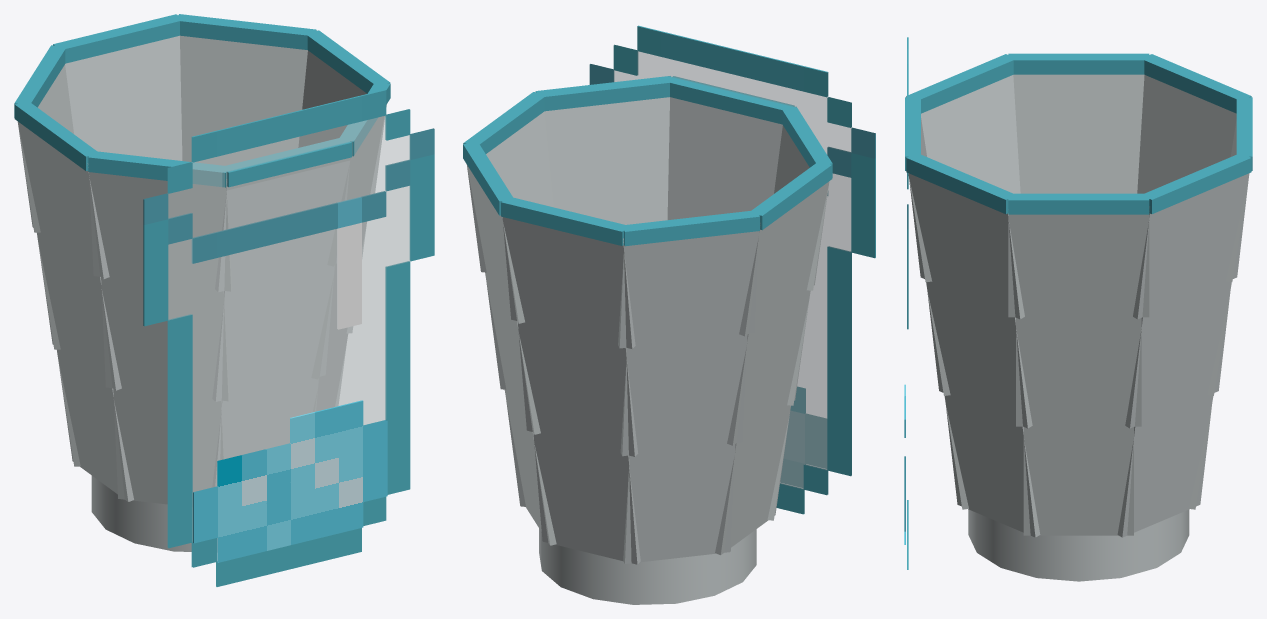
Rendered from CMU3DDrinkIceGlass.glb.
3 views of the same model, side by side, from view 1: azimuth 30°, elevation 25°; view 2: azimuth 150°, elevation 25°; view 3: azimuth 270°, elevation 25° (orthographic).
Visible parts, largest first — view 1: base original source artwork, fill original source artwork, hollow wall tier 3 facet 3, hollow wall tier 2 facet 7, hollow wall tier 3 facet 2, hollow wall tier 2 facet 6, hollow wall tier 3 facet 6, hollow wall tier 3 facet 7, hollow wall tier 1 facet 6, hollow wall tier 3 facet 5, hollow wall tier 2 facet 5, hollow wall tier 1 facet 5 (+15 smaller); view 2: base original source artwork, hollow wall tier 3 facet 8, hollow wall tier 3 facet 4, hollow wall tier 2 facet 4, hollow wall tier 3 facet 3, hollow wall tier 2 facet 3, hollow wall tier 3 facet 7, hollow wall tier 1 facet 4, hollow wall tier 1 facet 3, heavy glass foot, hollow wall tier 3 facet 5, hollow wall tier 2 facet 5 (+15 smaller); view 3: hollow wall tier 3 facet 5, hollow wall tier 3 facet 1, hollow wall tier 2 facet 1, hollow wall tier 1 facet 1, hollow wall tier 3 facet 2, hollow wall tier 3 facet 8, hollow wall tier 2 facet 2, hollow wall tier 2 facet 8, heavy glass foot, hollow wall tier 1 facet 8, hollow wall tier 1 facet 2, hollow wall tier 3 facet 4 (+14 smaller).
Boxes of the visible parts, x1=… form: base original source artwork: x1=143, y1=89, x2=434, y2=586; fill original source artwork: x1=193, y1=400, x2=387, y2=562; hollow wall tier 3 facet 3: x1=65, y1=35, x2=182, y2=158; hollow wall tier 2 facet 7: x1=212, y1=264, x2=334, y2=401; hollow wall tier 3 facet 2: x1=180, y1=35, x2=307, y2=159; hollow wall tier 2 facet 6: x1=101, y1=276, x2=229, y2=400; hollow wall tier 3 facet 6: x1=89, y1=172, x2=232, y2=291; hollow wall tier 3 facet 7: x1=215, y1=158, x2=350, y2=291; hollow wall tier 1 facet 6: x1=113, y1=388, x2=224, y2=504; hollow wall tier 3 facet 5: x1=17, y1=121, x2=109, y2=279; hollow wall tier 2 facet 5: x1=37, y1=232, x2=121, y2=390; hollow wall tier 1 facet 5: x1=57, y1=349, x2=133, y2=501; base original source artwork: x1=589, y1=25, x2=875, y2=514; hollow wall tier 3 facet 8: x1=544, y1=97, x2=669, y2=220; hollow wall tier 3 facet 4: x1=618, y1=231, x2=759, y2=348; hollow wall tier 2 facet 4: x1=620, y1=333, x2=747, y2=456; hollow wall tier 3 facet 3: x1=502, y1=217, x2=635, y2=348; hollow wall tier 2 facet 3: x1=518, y1=322, x2=638, y2=456; hollow wall tier 3 facet 7: x1=667, y1=97, x2=782, y2=217; hollow wall tier 1 facet 4: x1=623, y1=443, x2=735, y2=563; hollow wall tier 1 facet 3: x1=533, y1=432, x2=640, y2=564; heavy glass foot: x1=539, y1=528, x2=756, y2=604; hollow wall tier 3 facet 5: x1=739, y1=181, x2=829, y2=336; hollow wall tier 2 facet 5: x1=727, y1=290, x2=810, y2=445; hollow wall tier 3 facet 5: x1=1013, y1=74, x2=1144, y2=191; hollow wall tier 3 facet 1: x1=1008, y1=214, x2=1149, y2=317; hollow wall tier 2 facet 1: x1=1016, y1=316, x2=1141, y2=426; hollow wall tier 1 facet 1: x1=1023, y1=425, x2=1133, y2=535; hollow wall tier 3 facet 2: x1=1133, y1=173, x2=1249, y2=319; hollow wall tier 3 facet 8: x1=908, y1=173, x2=1024, y2=319; hollow wall tier 2 facet 2: x1=1125, y1=281, x2=1231, y2=428; hollow wall tier 2 facet 8: x1=926, y1=281, x2=1032, y2=428; heavy glass foot: x1=968, y1=509, x2=1189, y2=581; hollow wall tier 1 facet 8: x1=945, y1=395, x2=1040, y2=537; hollow wall tier 1 facet 2: x1=1117, y1=395, x2=1212, y2=537; hollow wall tier 3 facet 4: x1=1137, y1=75, x2=1236, y2=193.
Size of what is drawn, in the model's own units: 0.393 by 0.5625 by 0.394.
5 materials, 2 textured.
